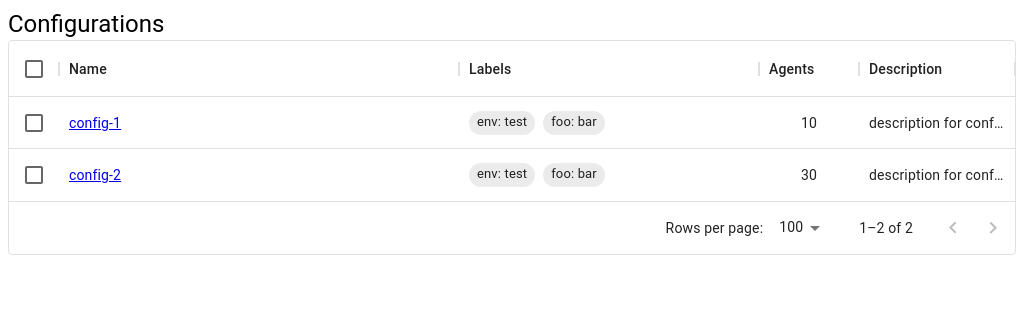
ConfigurationsTable › shows delete button after selecting row
Expected: the link "config-1" is shown, [69,112,121,132]
What coordinates should you click on to do the following:
click the checkbox named "Select all rows"
I would click on:
 (34, 68)
Its box is [22,56,46,80].
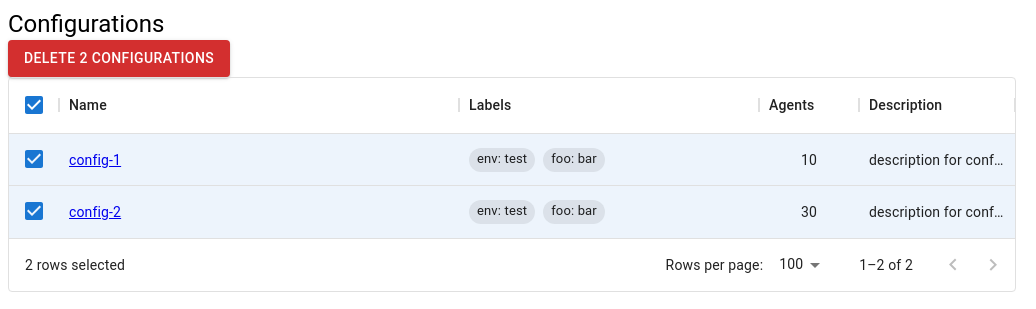
Now the button "Delete 2 Configurations" is shown, box [8,40,230,76]
